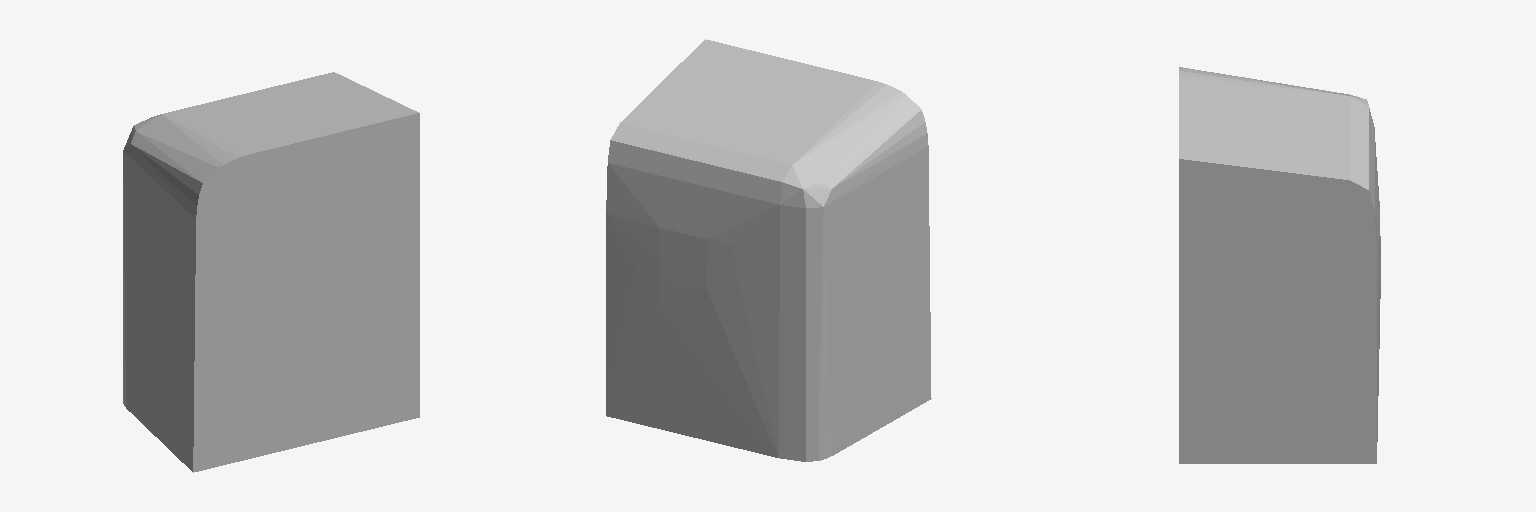
File: ShipScene_collision_29.obj
3 views of the same model, side by side, from view 1: azimuth 30°, elevation 25°; view 2: azimuth 150°, elevation 25°; view 3: azimuth 270°, elevation 25° (orthographic).
Bounding box in the file's own units: 48.9 × 62.91 × 37.69.